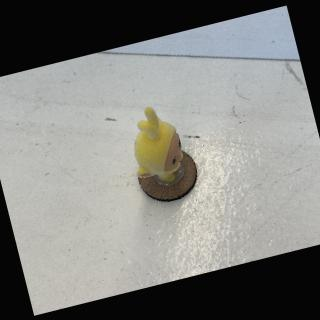teletubby: (134, 107, 182, 181)
